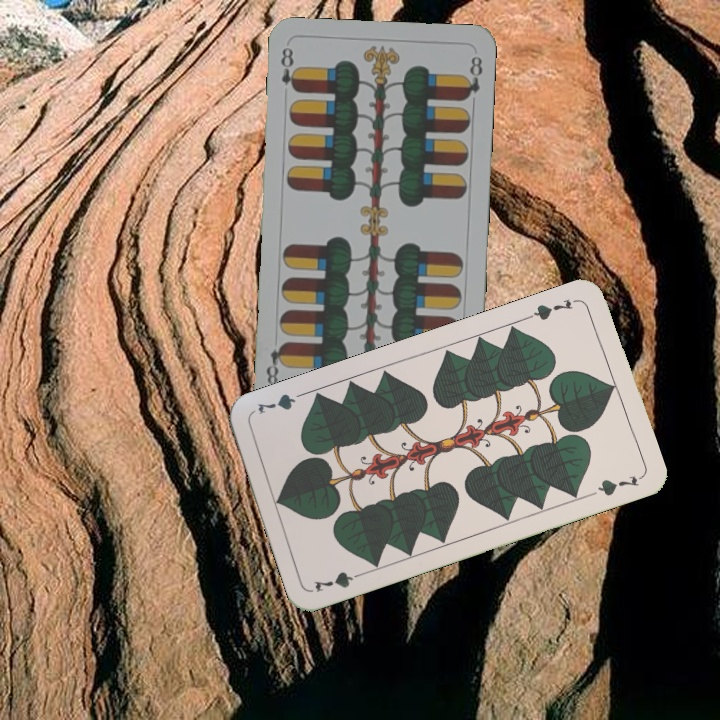E8: (276, 43, 301, 95)
G7: (310, 567, 368, 595), (524, 295, 575, 323)
